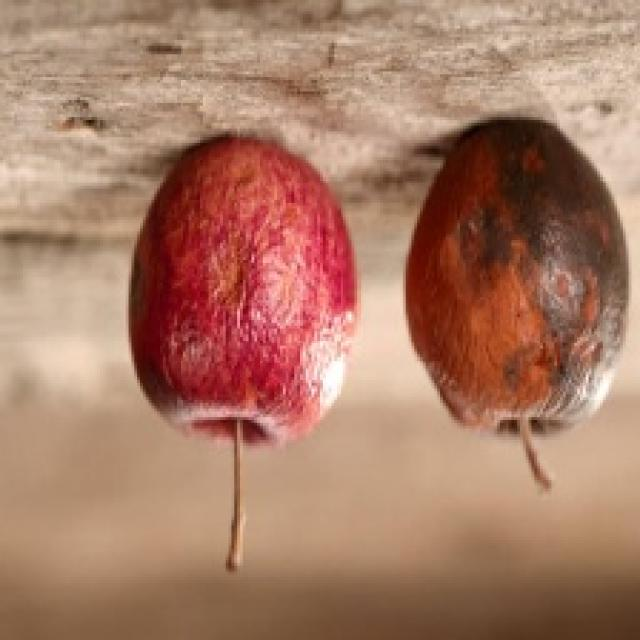rotten_apple: (411, 121, 629, 432), (141, 136, 357, 448)
